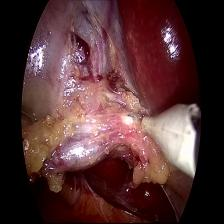Grasper: (20, 106, 39, 136)
Hook: (125, 101, 202, 174)
